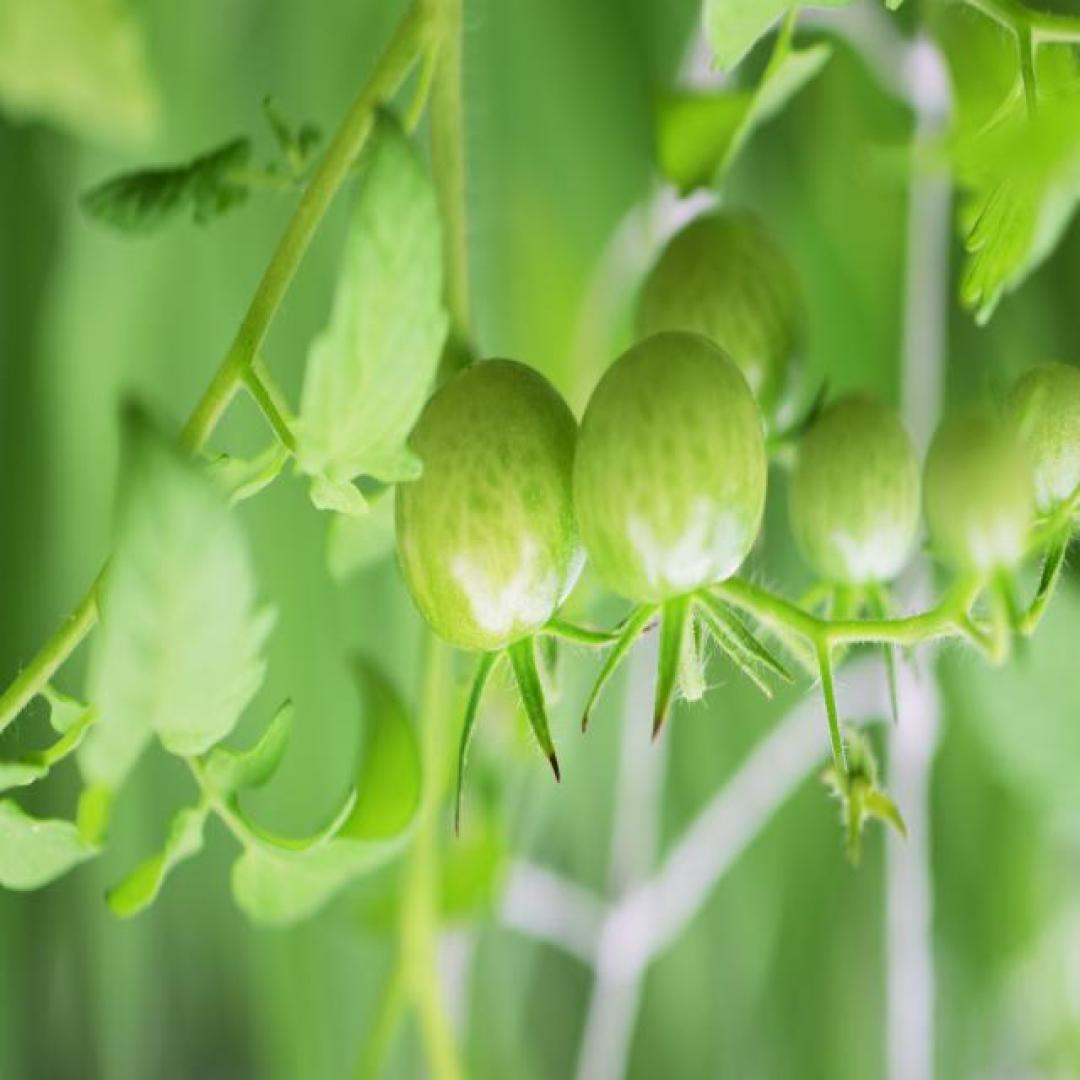mentah: (395, 358, 592, 648), (574, 327, 768, 608)
